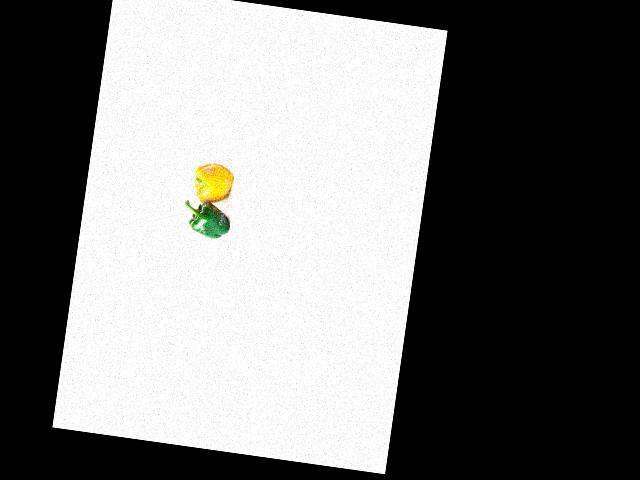bell_pepper: (184, 199, 238, 244)
